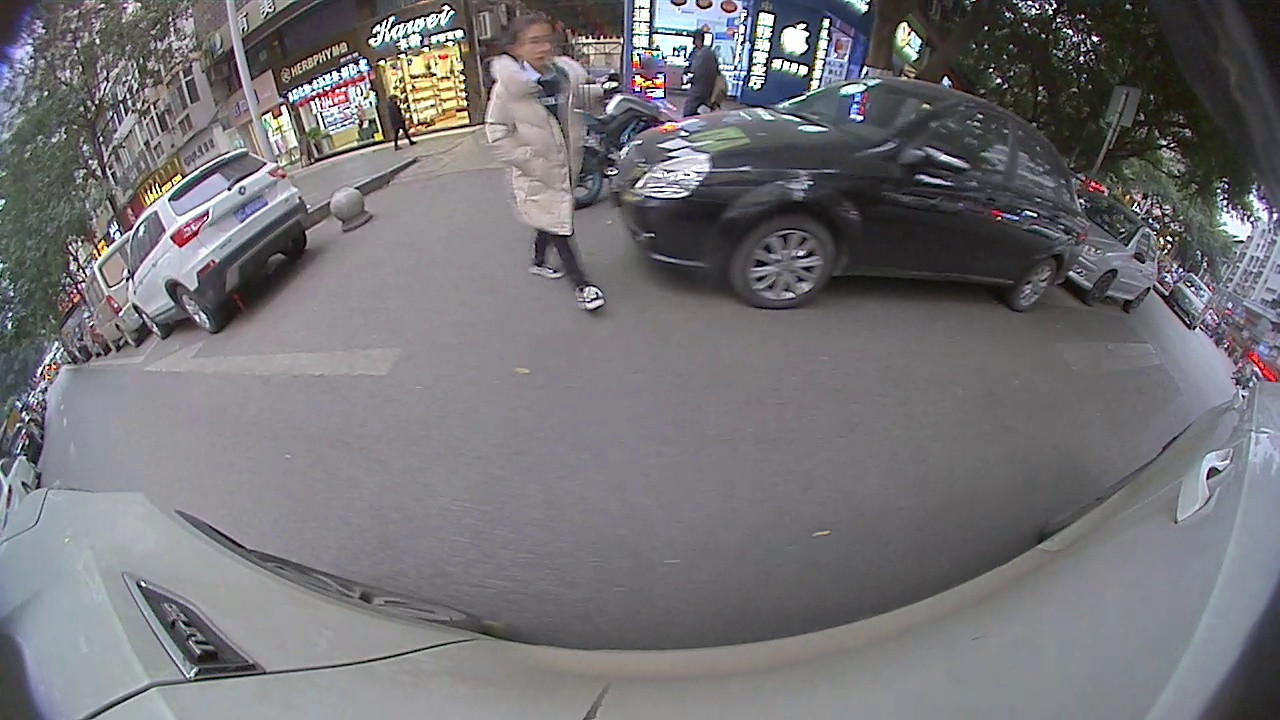car: (612, 80, 1077, 315), (128, 149, 312, 341), (1061, 194, 1160, 313), (86, 235, 150, 352), (1, 455, 41, 522), (1165, 276, 1215, 328)
front: (733, 218, 840, 307), (1091, 269, 1115, 303)
person: (495, 14, 577, 311), (688, 27, 716, 119)
rear: (1012, 255, 1059, 309), (170, 286, 221, 333)
rider: (553, 79, 675, 209)
